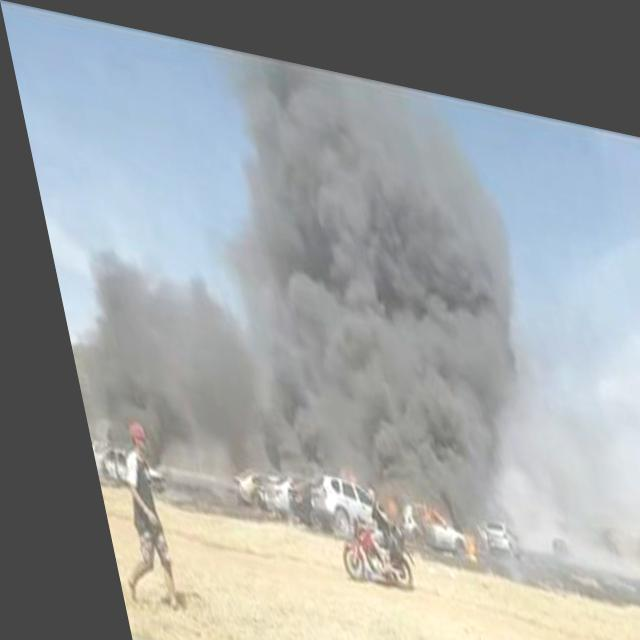Fire: (440, 510, 460, 550)
